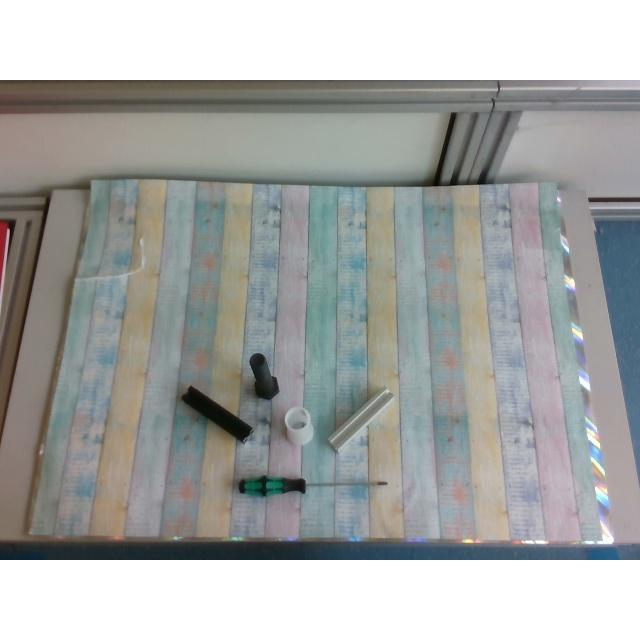F20_20_B: (180, 386, 252, 442)
F20_20_G: (328, 387, 394, 451)
M20_100: (250, 353, 278, 399)
Screwdriver: (239, 476, 389, 496)
Spacer: (284, 406, 312, 444)
